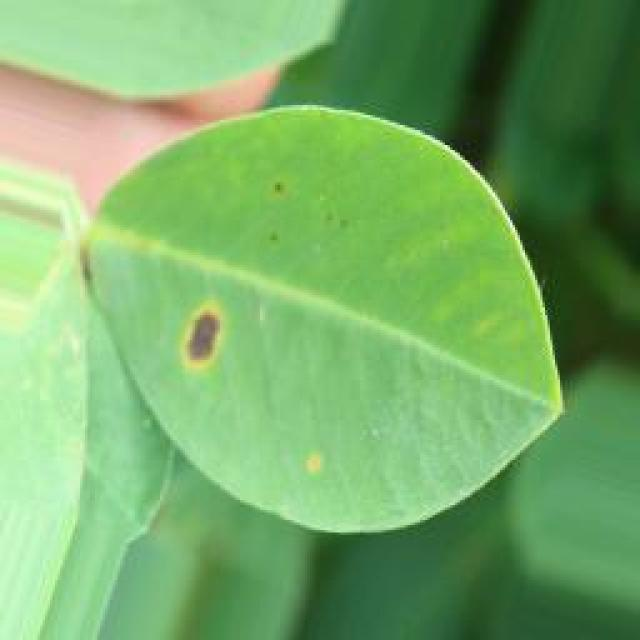Early_leaf_spot: (240, 156, 376, 264), (156, 290, 232, 394), (301, 434, 333, 484)
